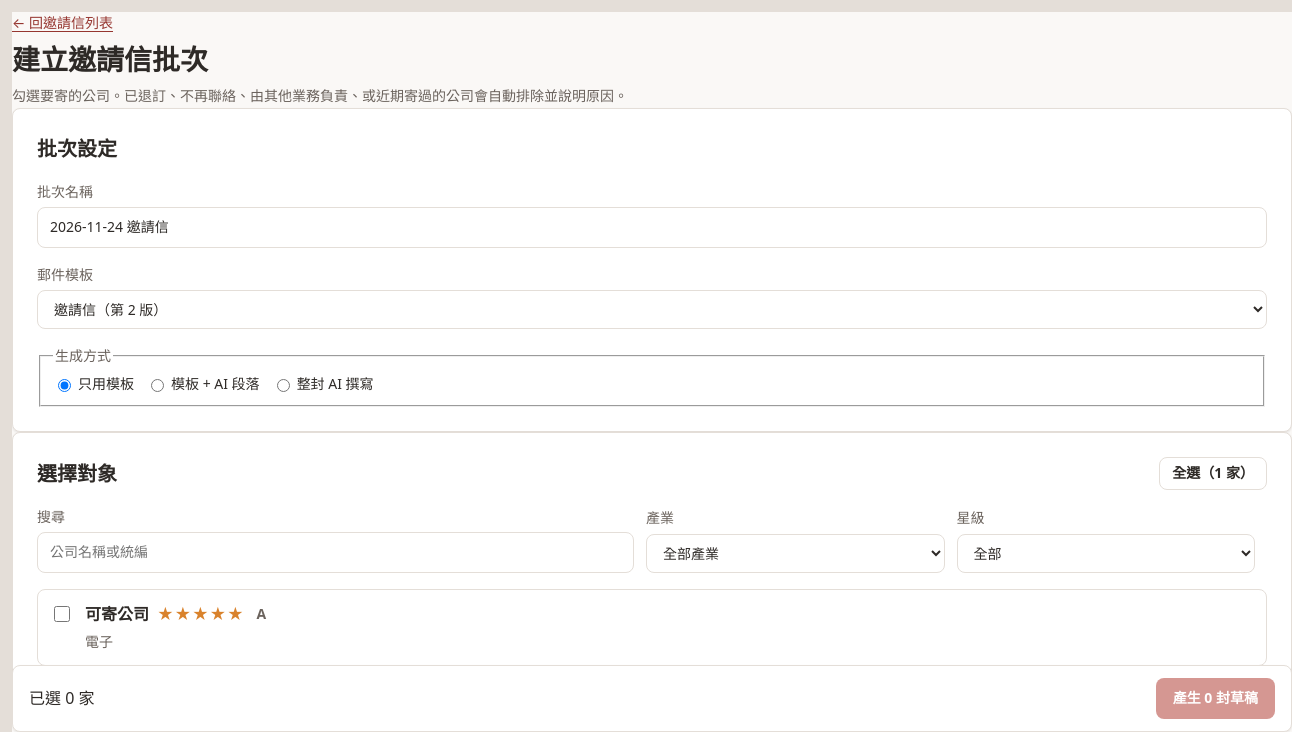
M2-03d 建立批次 › test_m3_16_filter_candidates：搜尋、產業、星級會帶進網址，已勾選的公司不會因篩選消失
The image size is (1292, 732).
Click the checkbox labelled "可寄公司 ★★★★★ A 電子".
click(62, 614)  # box [54,606,70,622]
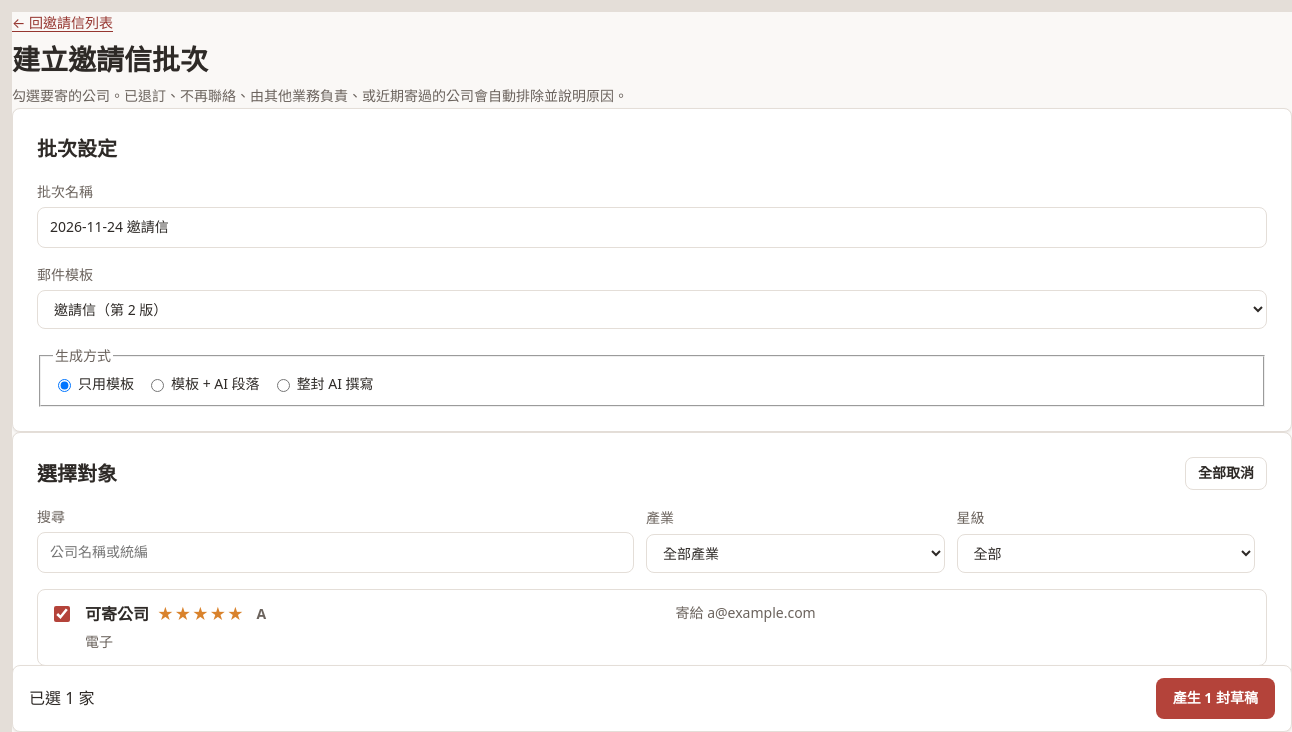
Type "另一" into the search field.
click(336, 552); type("另一")  # box [37,532,634,572]
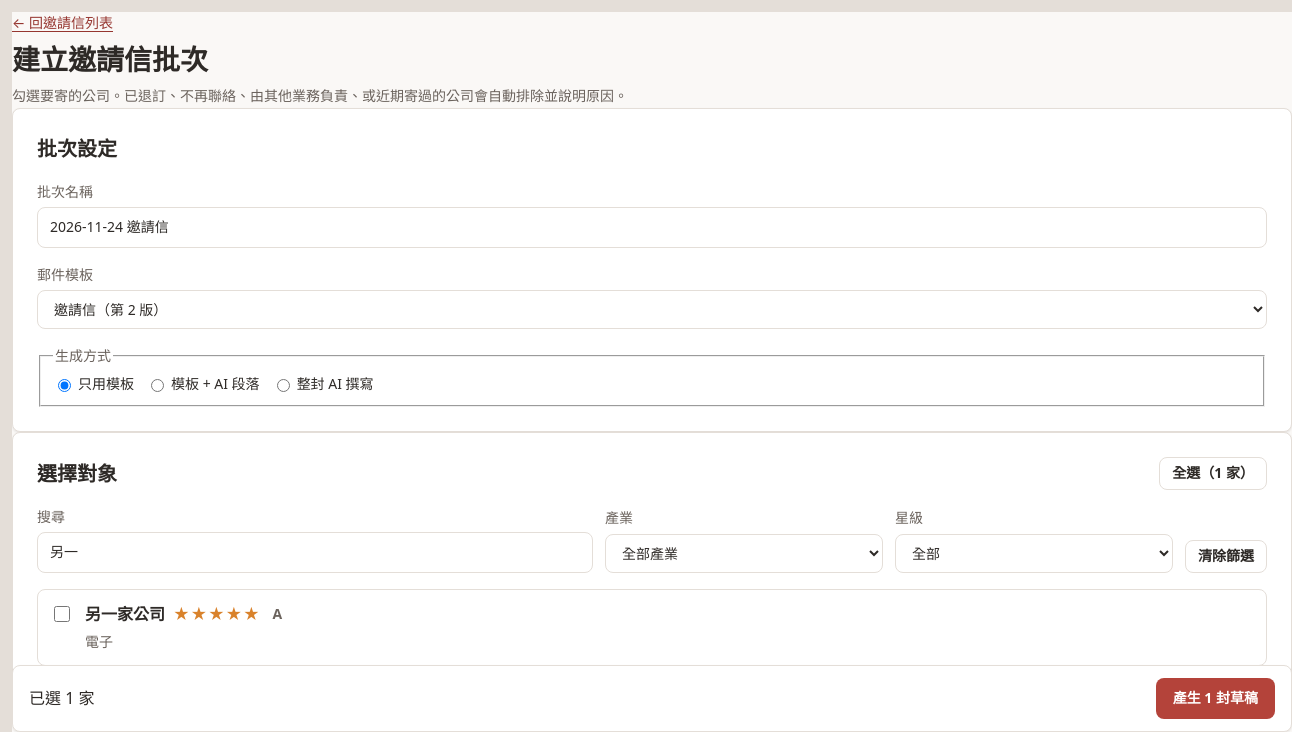
Expected: the checkbox labelled "另一家公司 ★★★★★ A 電子" is shown, [54,606,70,622]
Expected: the text "已選 1 家" is shown, [29,686,94,712]
Click the button "清除篩選".
click(1226, 556)  # box [1185,540,1267,572]
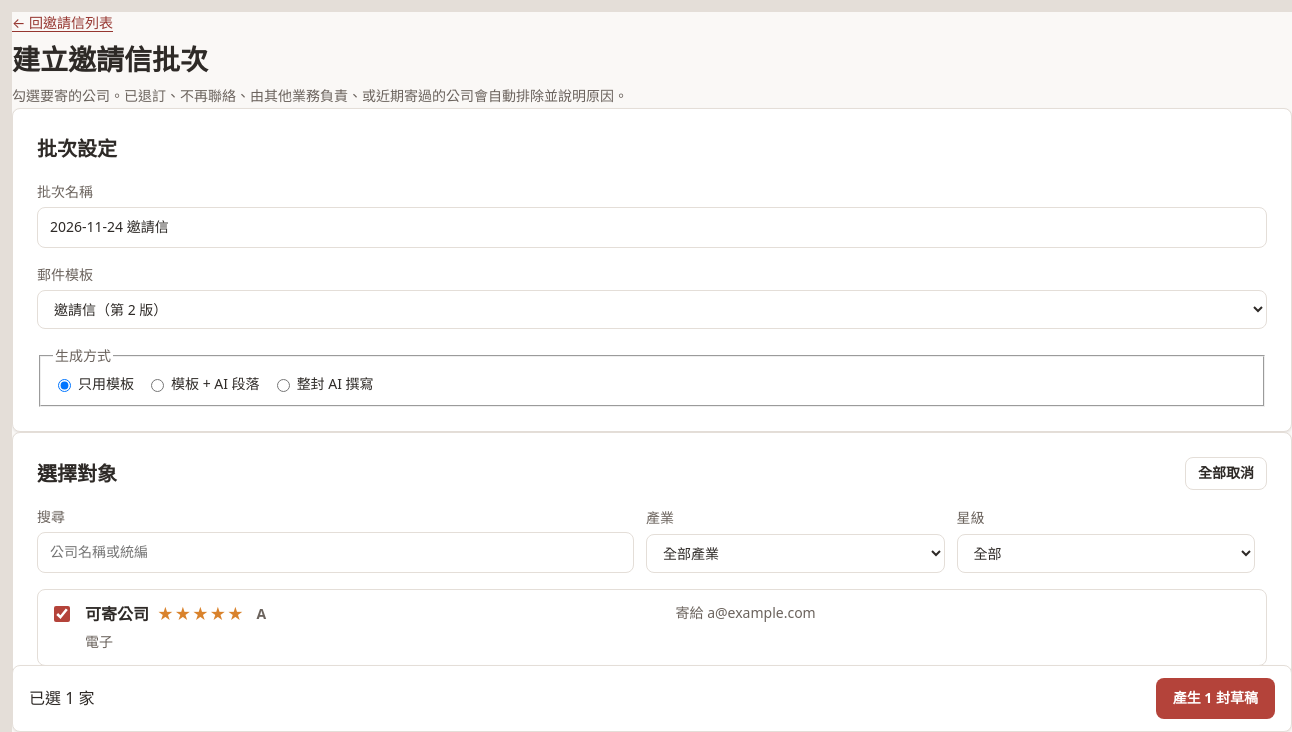
Expected: the checkbox labelled "可寄公司 ★★★★★ A 電子" is checked, [54,606,70,622]
